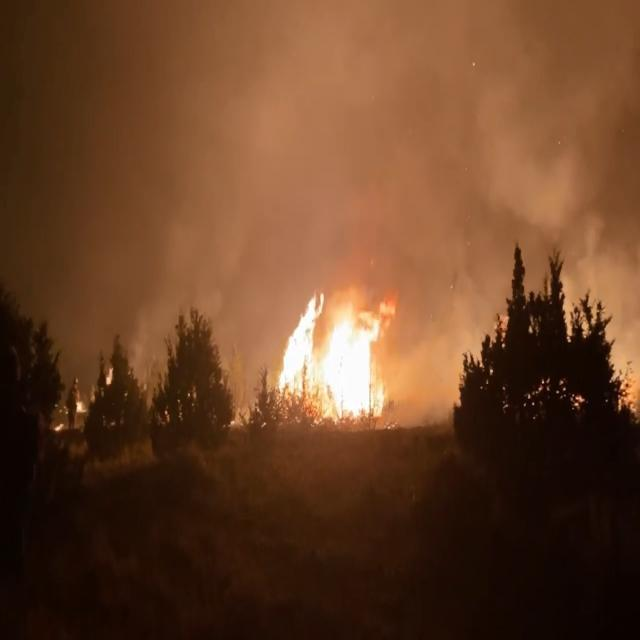Fire: (283, 279, 396, 432)
